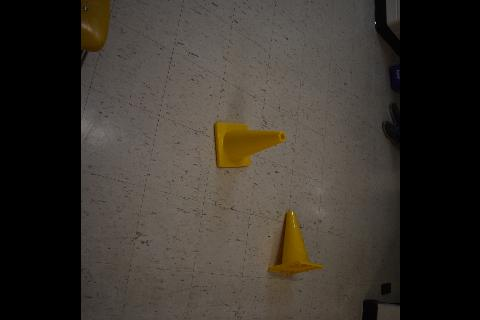cone: (267, 210, 323, 276), (212, 122, 286, 168)
